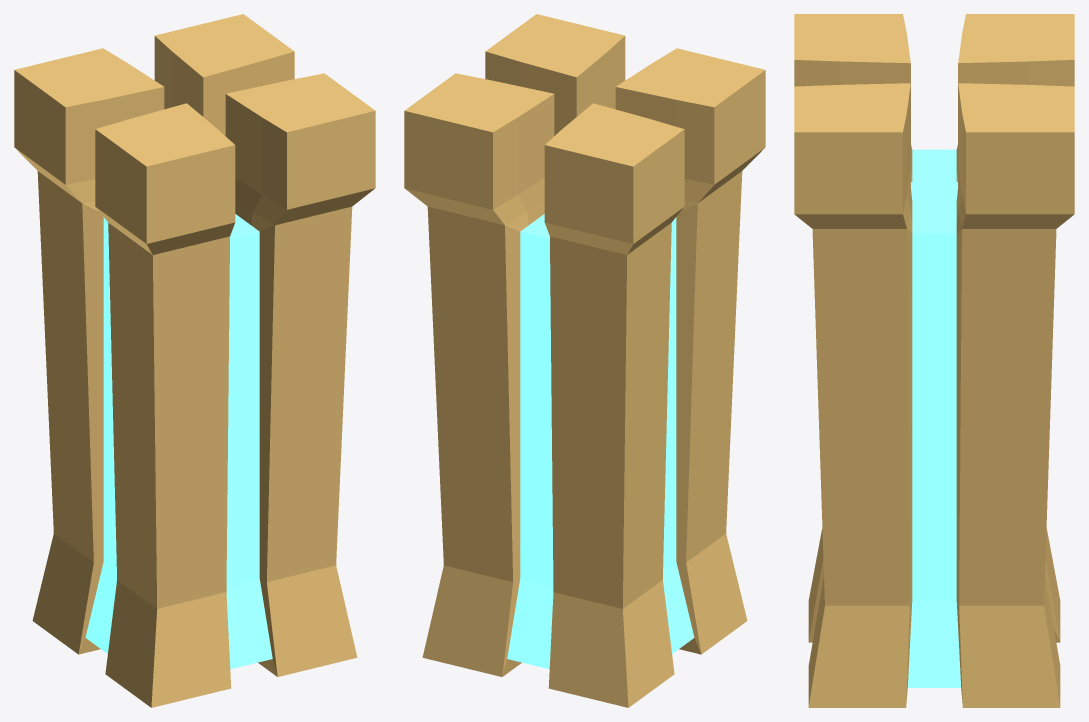
Rendered from cube_L_ Azteca.fbx.
3 views of the same model, side by side, from view 1: azimuth 30°, elevation 25°; view 2: azimuth 150°, elevation 25°; view 3: azimuth 270°, elevation 25° (orthographic). The views are drawn at different scales.
Parts seen in each view (by area): view 1: Cube; view 2: Cube; view 3: Cube.
Boxes of the visible parts, bbox=[...] form: Cube: bbox=[14, 14, 375, 707]; Cube: bbox=[404, 14, 765, 707]; Cube: bbox=[794, 14, 1074, 707].
Size of the model in its own units: 267 by 611 by 267.
